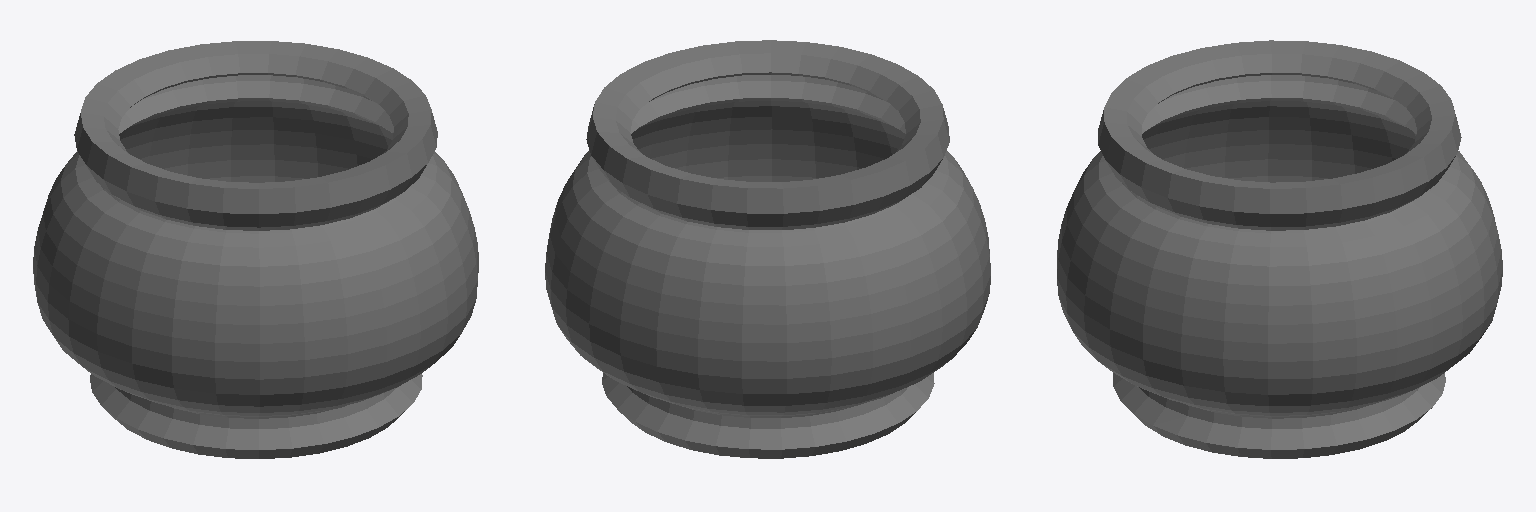
Rendered from FishbowlWithCastle.obj.
The picture shows the model from 3 angles: view 1: azimuth 30°, elevation 25°; view 2: azimuth 150°, elevation 25°; view 3: azimuth 270°, elevation 25°; orthographic projection.
Visible parts, largest first — view 1: FishBowl; view 2: FishBowl; view 3: FishBowl.
Part boxes in pixels (x1,y1,x2,y2): FishBowl: (33,41,478,458); FishBowl: (545,40,990,458); FishBowl: (1057,40,1502,458).
Bounding box in the file's own units: 31.46 × 21.95 × 31.42.